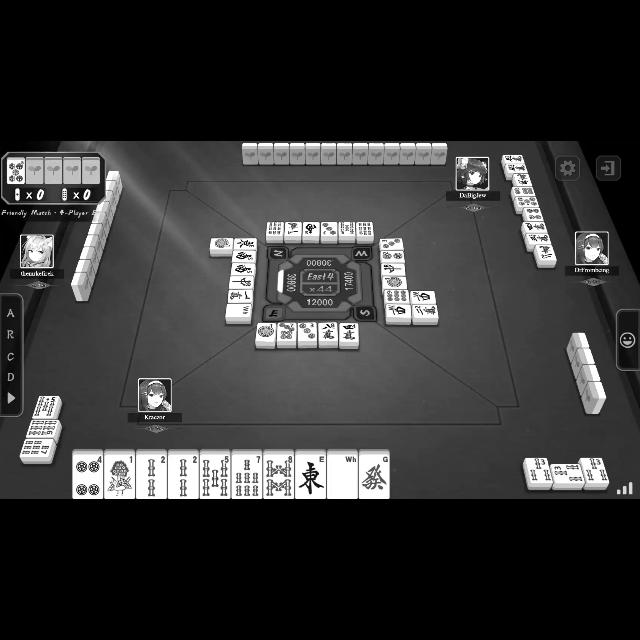1m: (230, 289, 250, 301), (286, 222, 300, 236)
1p: (258, 322, 276, 342), (210, 238, 232, 250), (384, 278, 406, 288)
1s: (106, 456, 134, 498)
2m: (414, 305, 436, 317), (539, 244, 553, 260)
2p: (382, 251, 404, 261)
2s: (170, 458, 198, 498), (140, 457, 167, 498)
3m: (528, 233, 550, 243)
3p: (300, 323, 316, 342), (381, 238, 403, 250), (322, 222, 338, 236)
3s: (527, 459, 551, 483), (551, 466, 581, 482), (586, 459, 606, 483)
4m: (340, 323, 358, 341), (524, 222, 546, 232)
4p: (74, 455, 102, 497), (526, 208, 542, 220)
5m: (504, 154, 524, 164), (505, 164, 527, 172), (516, 174, 530, 186)
5p: (8, 160, 24, 182), (516, 198, 538, 208)
5s: (202, 457, 230, 498), (36, 396, 56, 418), (340, 222, 354, 236)
6p: (512, 186, 536, 196)
6s: (29, 421, 56, 437)
7p: (278, 323, 296, 343)
7s: (232, 457, 262, 498), (23, 440, 51, 458)
8m: (319, 322, 336, 342)
8s: (264, 456, 294, 496)
9p: (387, 290, 408, 302)
9s: (267, 222, 283, 236), (357, 222, 373, 236)
chun: (230, 276, 254, 288), (382, 264, 404, 276)
haku: (329, 458, 357, 498), (226, 305, 252, 317)
hatsu: (361, 455, 389, 497)
nan: (234, 250, 256, 262), (232, 264, 254, 274), (304, 222, 318, 236)
sha: (388, 304, 410, 318), (412, 291, 434, 303)
tou: (296, 456, 324, 496), (234, 238, 256, 250)
